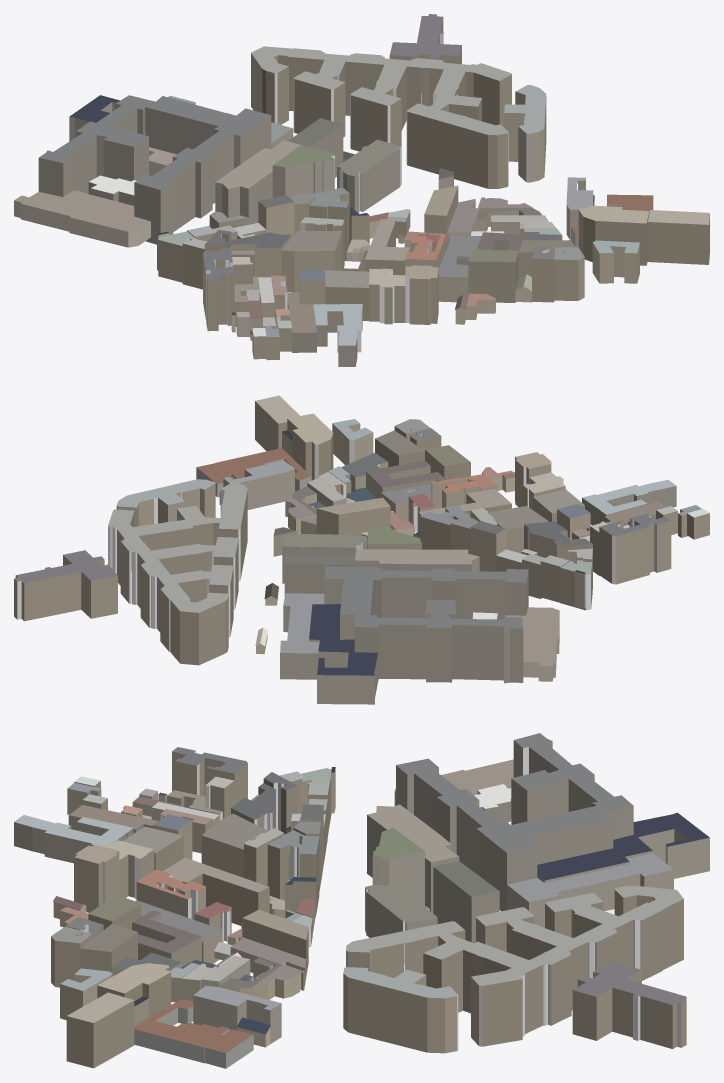
3 renders of one model, top to bottom at view 1: azimuth 30°, elevation 25°; view 2: azimuth 150°, elevation 25°; view 3: azimuth 270°, elevation 25°, orthographic. The views are drawn at different scales.
Parts seen in each view (by area): view 1: tuile; view 2: tuile; view 3: tuile.
Boxes of the visible parts, <box> form: tuile: <box>14,14,709,366</box>; tuile: <box>14,395,709,704</box>; tuile: <box>14,733,709,1068</box>.
Bounding box in the file's own units: 293 × 37.84 × 311.
